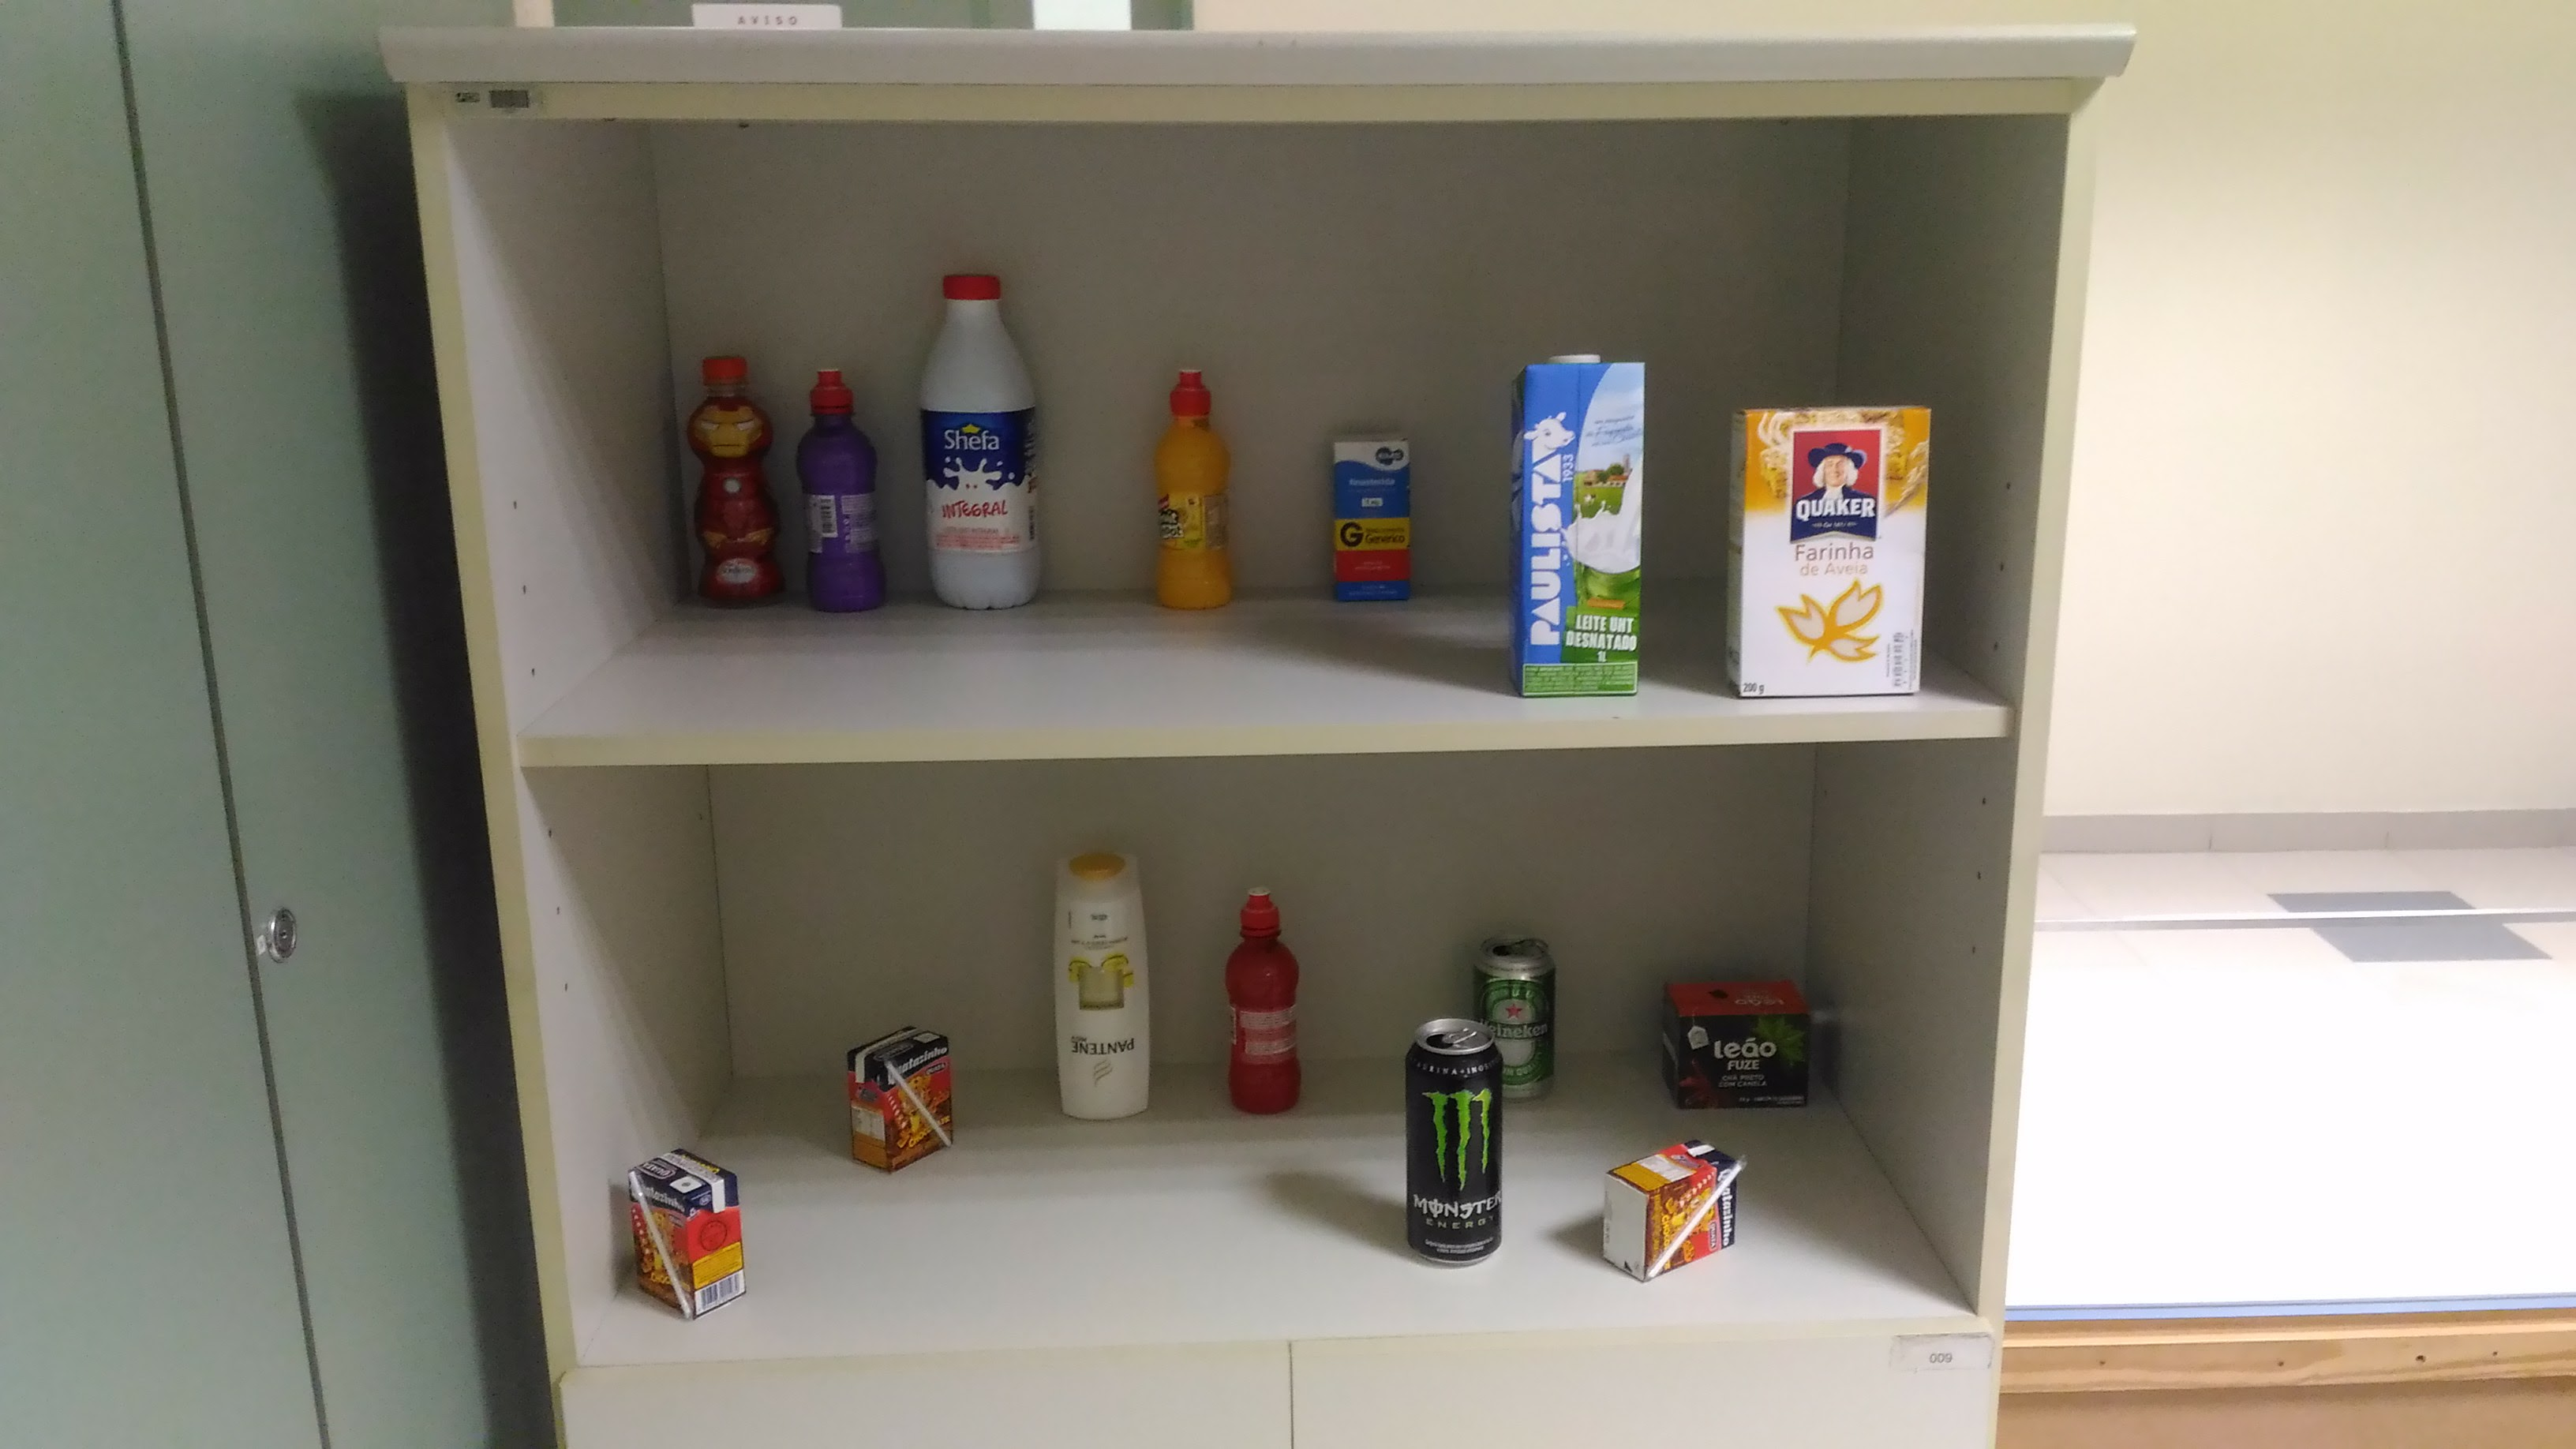cereal: (1713, 388, 1945, 709)
chocolate_milk: (617, 1132, 752, 1324), (1593, 1129, 1744, 1286), (840, 1019, 961, 1177)
heineken: (1480, 931, 1561, 1103)
iron_man: (685, 343, 781, 613)
medicine: (1319, 413, 1423, 613)
milk_bottle: (913, 264, 1046, 613)
milk_box: (1496, 339, 1663, 703)
monster: (1398, 1016, 1511, 1270)
purple_juice: (792, 362, 890, 619)
red_juice: (1220, 881, 1310, 1121)
shampoo: (1046, 841, 1161, 1129)
tea_box: (1654, 971, 1821, 1114)
yellow_juice: (1141, 359, 1240, 616)
